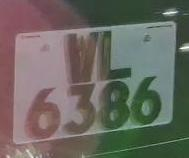3: (60, 79, 101, 141)
6: (22, 78, 66, 144), (129, 72, 170, 128)
8: (95, 77, 133, 133)
L: (98, 25, 136, 82)
W: (62, 27, 99, 83)
